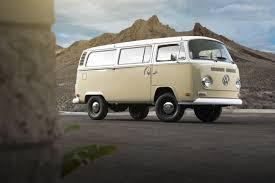volkswagen: (222, 73, 231, 87)
